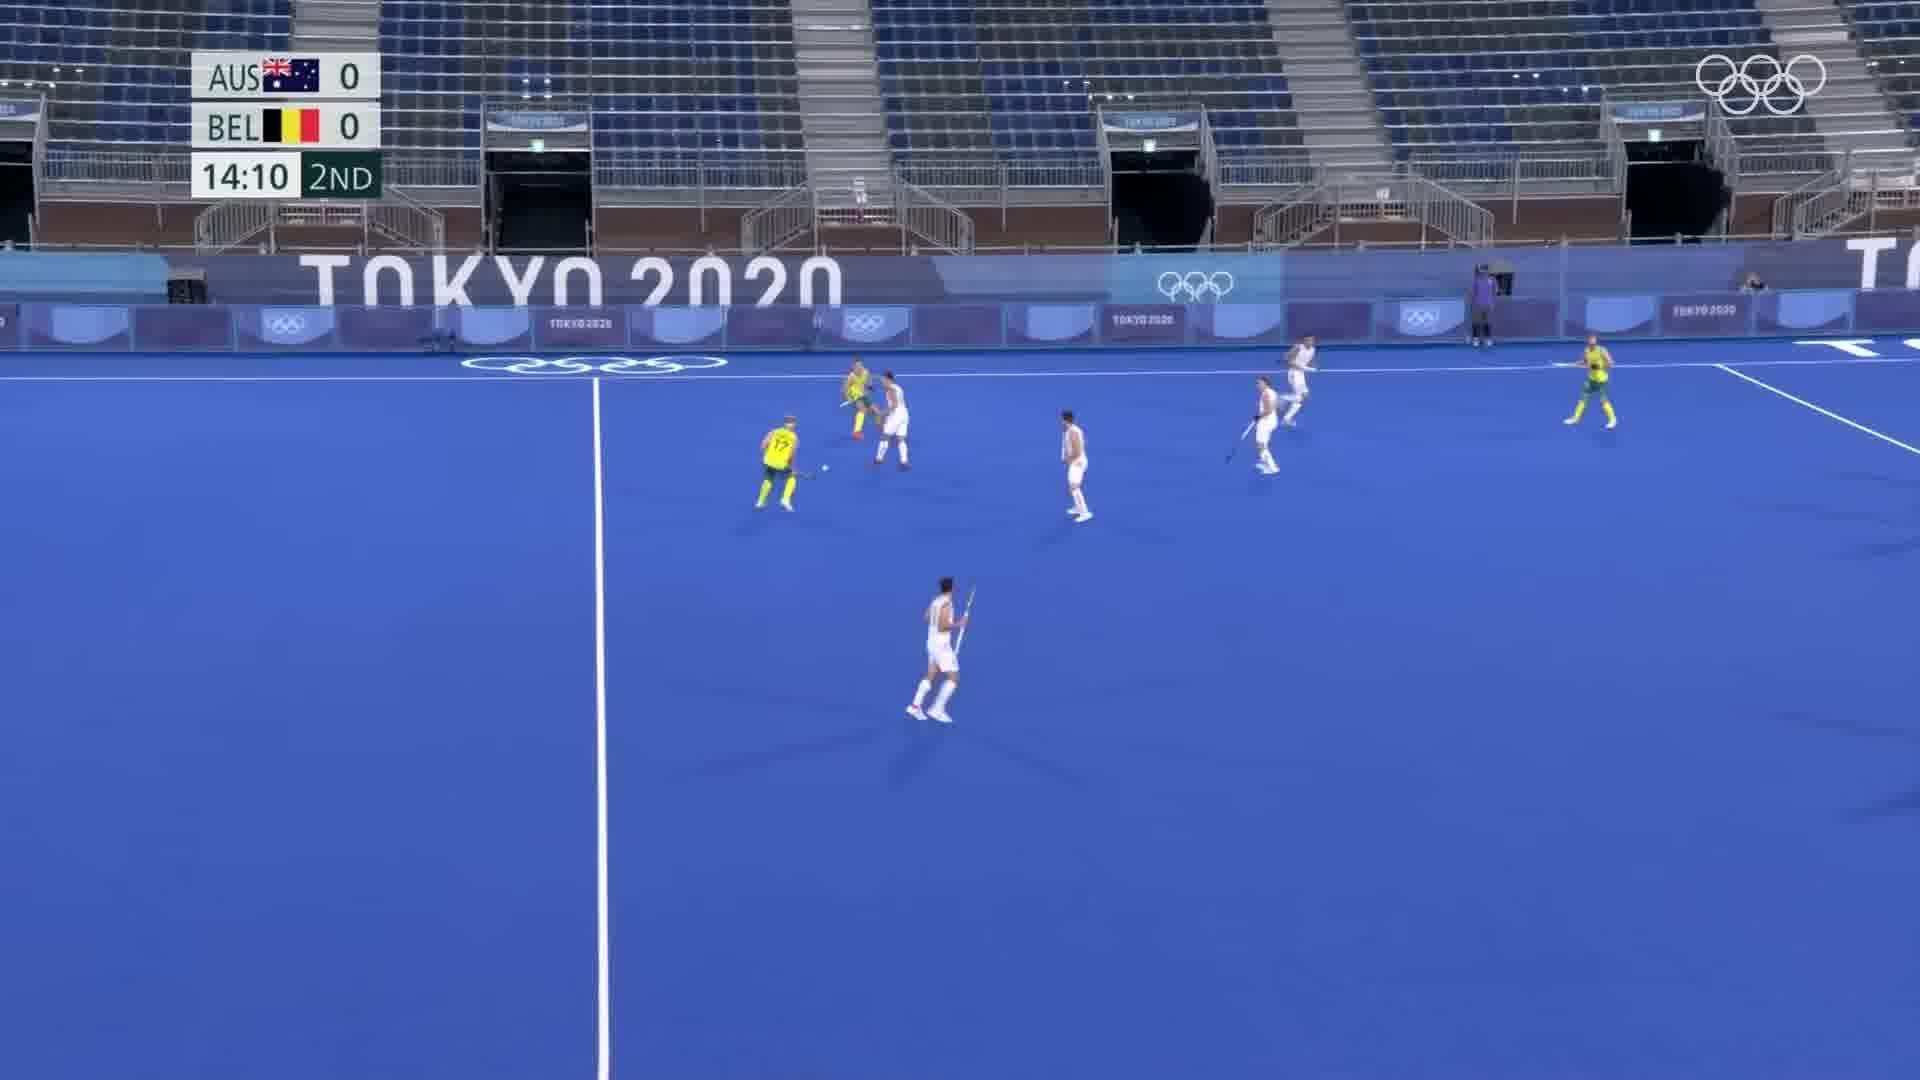ball: (820, 460, 831, 475)
